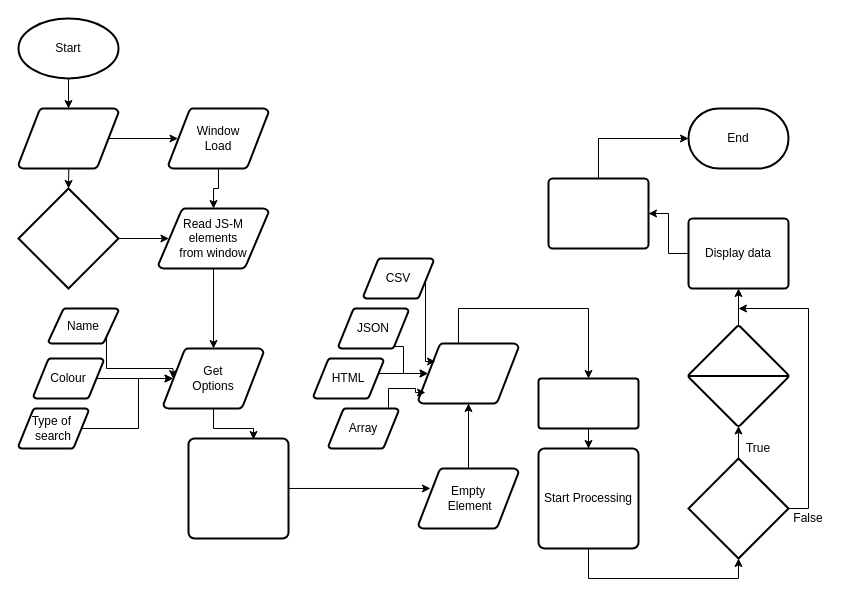
Some shapes in this 845 by 604 pixel diagram are drawn without their labels. The shapes that lost their labels are listed below. From the top down, each one's box as (x1, y1, x2, y2) in pixels, then its label:
(17, 107, 119, 169): Script Load
(547, 177, 649, 249): Register Events
(17, 187, 119, 289): Load JS scripts
(417, 342, 519, 404): Get Data
(537, 377, 639, 429): Store Data in Cache
(187, 437, 289, 539): Register elements in cache with ID
(687, 457, 789, 559): Sort
